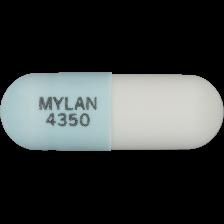54868-4562: (0, 0, 224, 224)
